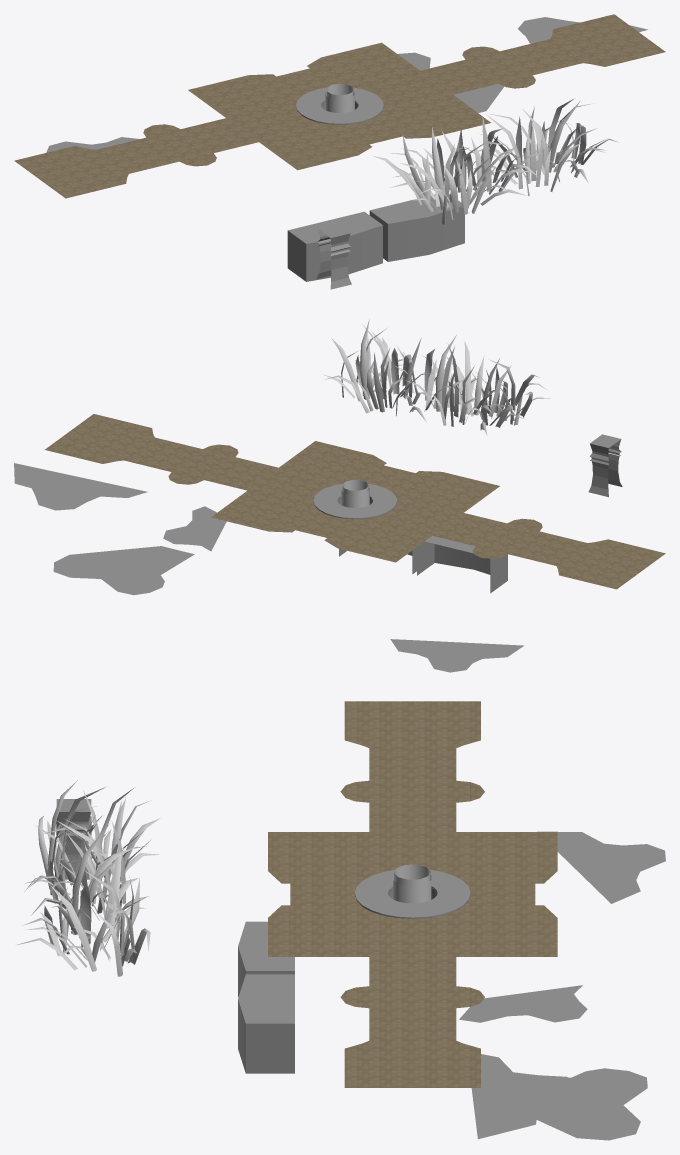
3 renders of one model, top to bottom at view 1: azimuth 30°, elevation 25°; view 2: azimuth 150°, elevation 25°; view 3: azimuth 270°, elevation 25°, orthographic. The views are drawn at different scales.
Visible parts, largest first — view 1: f_2106_ground_a, f_2106_hidegrass, f_2106_stone_b, f_2106_stone_a, f_2106_ground_c, f_2106_ground_b, f_2106_pillar, f_2106_lightline; view 2: f_2106_ground_a, f_2106_ground_c, f_2106_hidegrass, f_2106_stone_a, f_2106_ground_b, f_2106_pillar, f_2106_lightline; view 3: f_2106_ground_a, f_2106_ground_c, f_2106_hidegrass, f_2106_stone_b, f_2106_ground_b, f_2106_stone_a, f_2106_pillar, f_2106_lightline.
Part boxes in pixels (left/top/right/bottom): f_2106_ground_a: left=14, top=14, right=665, bottom=198; f_2106_hidegrass: left=372, top=98, right=619, bottom=226; f_2106_stone_b: left=369, top=194, right=464, bottom=261; f_2106_stone_a: left=287, top=211, right=382, bottom=281; f_2106_ground_c: left=46, top=17, right=647, bottom=152; f_2106_ground_b: left=296, top=87, right=383, bottom=124; f_2106_pillar: left=316, top=223, right=351, bottom=289; f_2106_lightline: left=325, top=83, right=354, bottom=112; f_2106_ground_a: left=45, top=414, right=665, bottom=589; f_2106_ground_c: left=14, top=463, right=523, bottom=672; f_2106_hidegrass: left=322, top=319, right=550, bottom=435; f_2106_stone_a: left=417, top=536, right=507, bottom=593; f_2106_ground_b: left=313, top=483, right=397, bottom=519; f_2106_pillar: left=588, top=434, right=622, bottom=497; f_2106_lightline: left=341, top=480, right=369, bottom=507; f_2106_ground_a: left=268, top=701, right=557, bottom=1087; f_2106_ground_c: left=459, top=831, right=665, bottom=1140; f_2106_hidegrass: left=17, top=780, right=160, bottom=976; f_2106_stone_b: left=238, top=974, right=294, bottom=1073; f_2106_ground_b: left=354, top=869, right=470, bottom=919; f_2106_stone_a: left=238, top=921, right=294, bottom=996; f_2106_pillar: left=55, top=799, right=91, bottom=879; f_2106_lightline: left=393, top=864, right=431, bottom=903.
Size of the model in its own units: 134 by 36.17 by 90.39.
